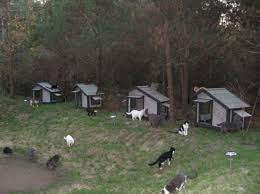cat: (151, 145, 178, 170), (125, 107, 147, 122), (176, 118, 190, 136)
